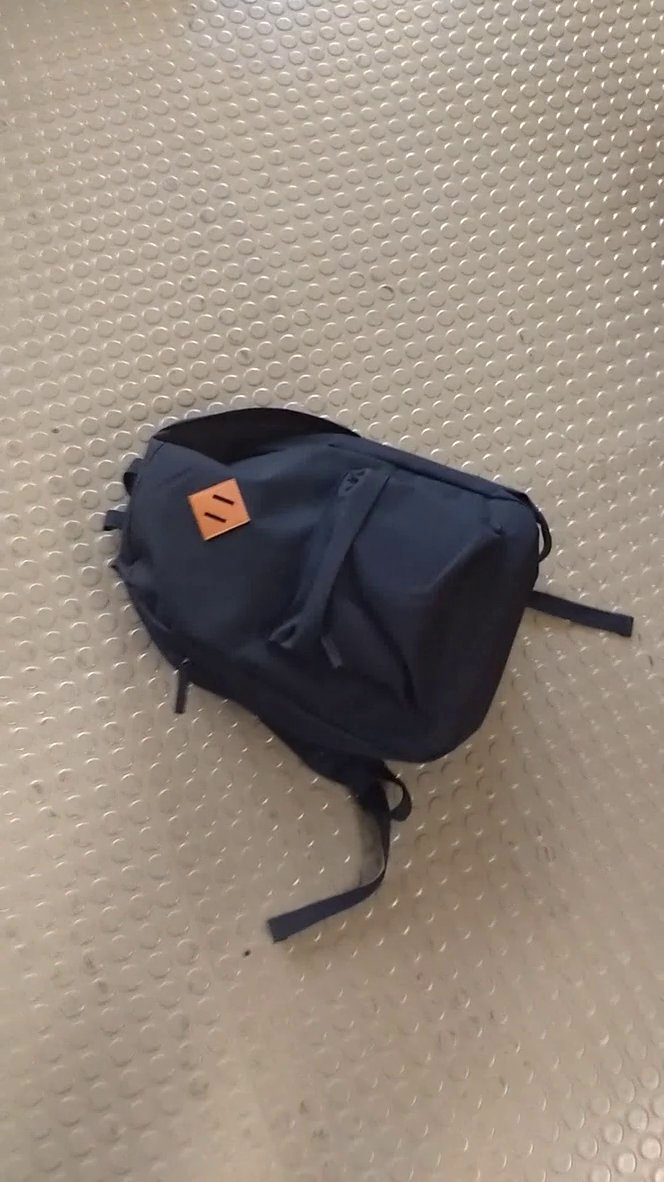bag: (87, 396, 639, 957)
